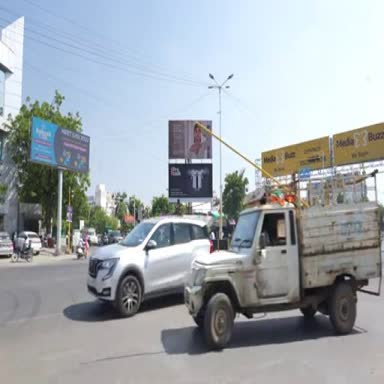Car: (87, 218, 212, 316), (16, 231, 41, 254), (0, 231, 13, 256), (108, 231, 122, 244)
